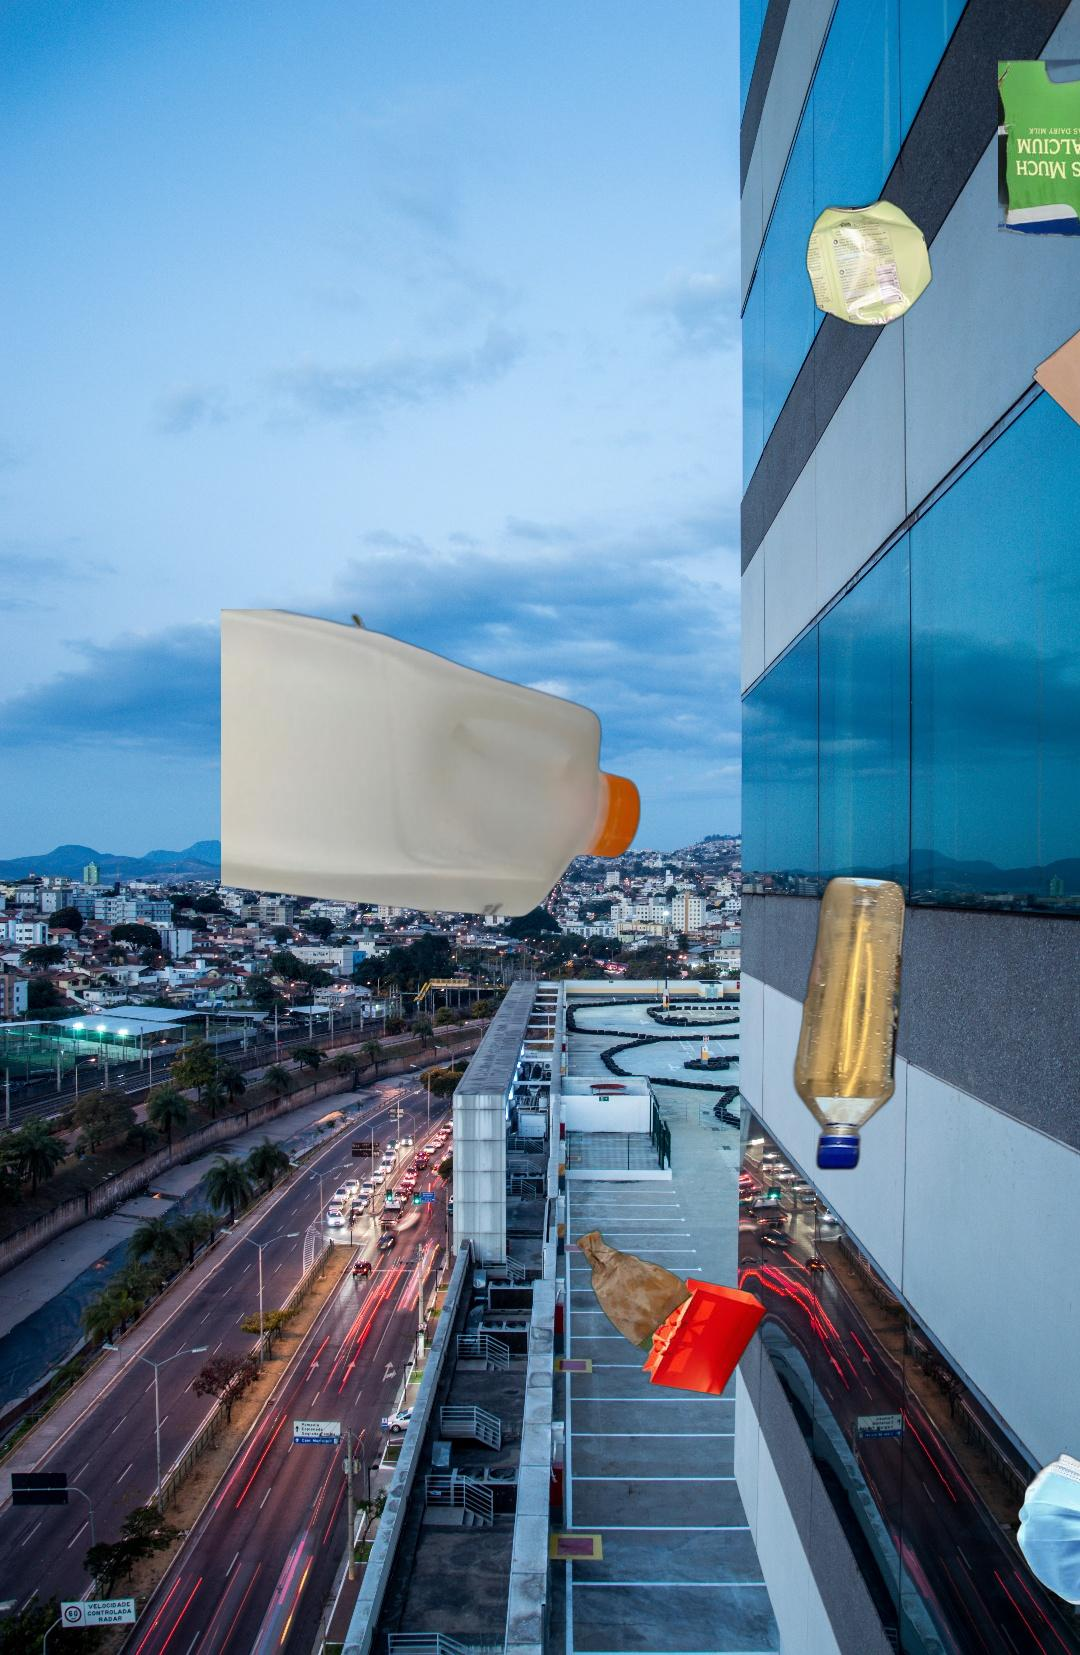metal-cans: (802, 194, 937, 332)
paper-bag: (546, 1225, 770, 1452), (1031, 270, 1080, 505)
plastic-bottles: (221, 609, 645, 925), (790, 870, 910, 1176)
trash: (1014, 1451, 1080, 1608)
trashbox-cardboard: (998, 36, 1080, 304)
